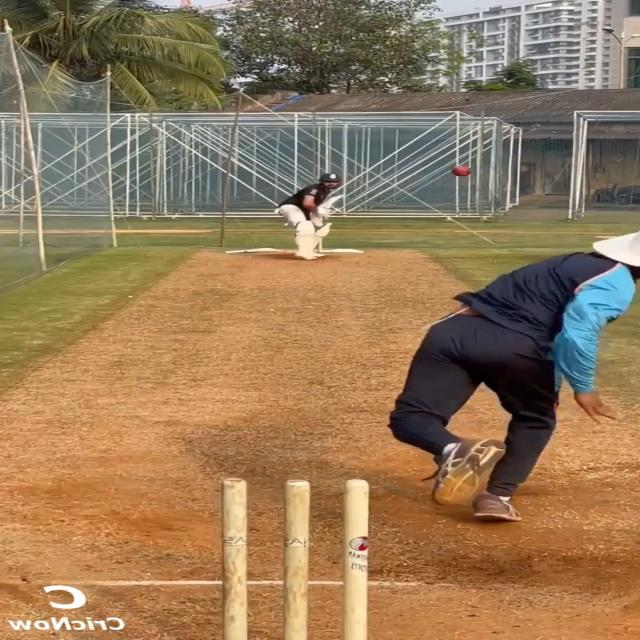ball: (451, 165, 472, 178)
stump: (216, 476, 373, 640)
